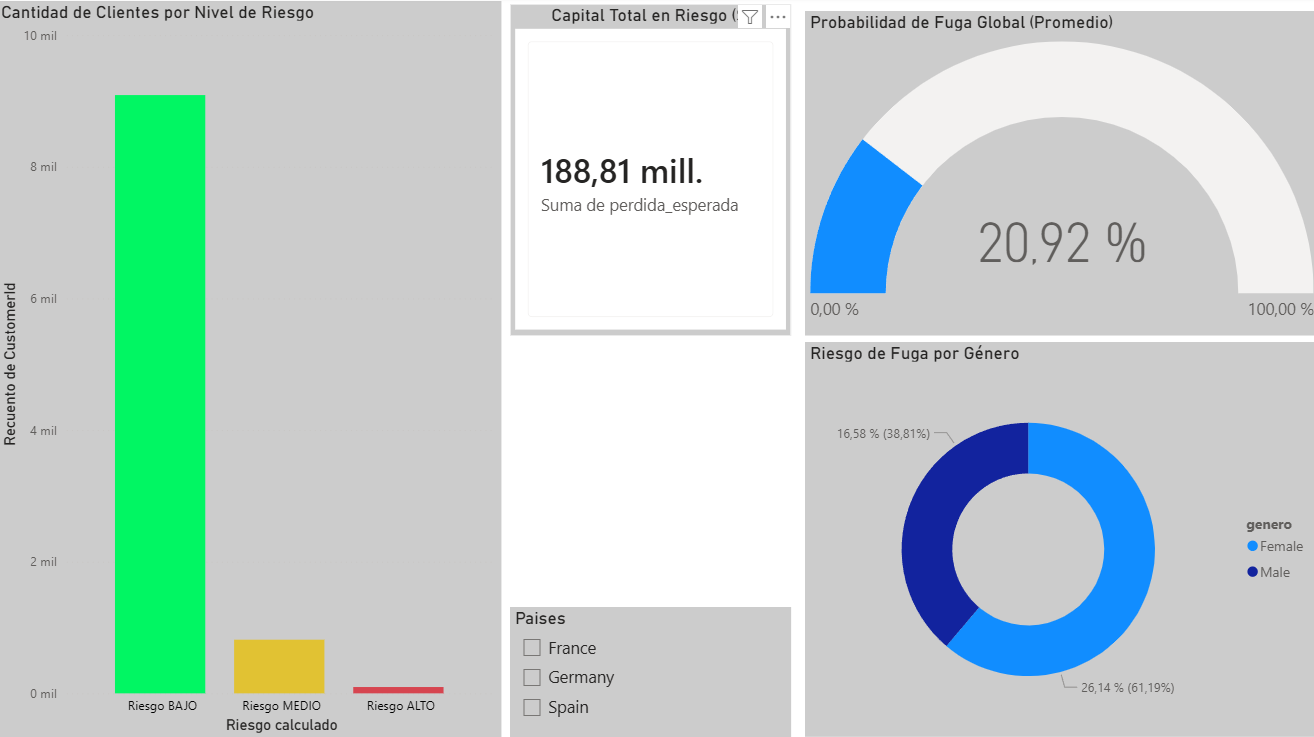

The dashboard page shown, as its layout file describes it:
{"tool":"powerbi","page":{"name":"Página 1","canvas":[1280,720],"ordinal":0},"visuals":[{"type":"columnChart","title":"Cantidad de Clientes por Nivel de Riesgo","fields":{"Y":["CountNonNull(public informe_powerbi.CustomerId)"],"Category":["public informe_powerbi.Riesgo calculado"]},"box":[0,3.6,489,712.8],"z":0},{"type":"cardVisual","title":"Capital Total en Riesgo ($)","fields":{"Data":["Sum(public informe_powerbi.perdida_esperada)"]},"box":[497,7.2,272.2,320.6],"z":1000},{"type":"gauge","title":"Probabilidad de Fuga Global (Promedio)","fields":{"Y":["Avg(public informe_powerbi.Probabilidad_Fuga)"]},"box":[782.7,13.5,497.3,314.4],"z":2000},{"type":"donutChart","title":"Riesgo de Fuga por Género","fields":{"Category":["public informe_powerbi.genero"],"Y":["Avg(public informe_powerbi.Probabilidad_Fuga)"]},"box":[782.7,334,497,382.4],"z":3000},{"type":"slicer","title":"Paises","fields":{"Values":["public informe_powerbi.pais"]},"box":[497.3,590.2,271.9,125.8],"z":4000}]}

Visuals, with their boxes in screenshot pixels (x1, y1, x2, y2), scaled from the page's 1280x720 canvas onto the 1314x737 screenshot:
"Cantidad de Clientes por Nivel de Riesgo" columnChart: [0,4,502,733]
"Capital Total en Riesgo ($)" cardVisual: [510,7,790,336]
"Probabilidad de Fuga Global (Promedio)" gauge: [803,14,1313,336]
"Riesgo de Fuga por Género" donutChart: [803,342,1313,733]
"Paises" slicer: [511,604,790,733]
